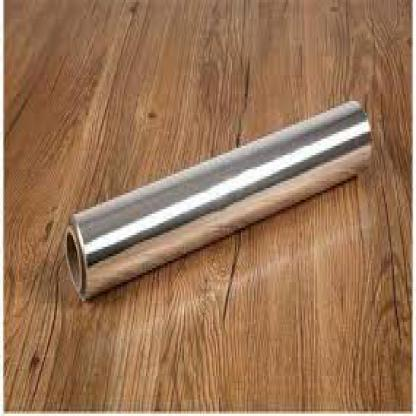METAL: (65, 99, 370, 303)
